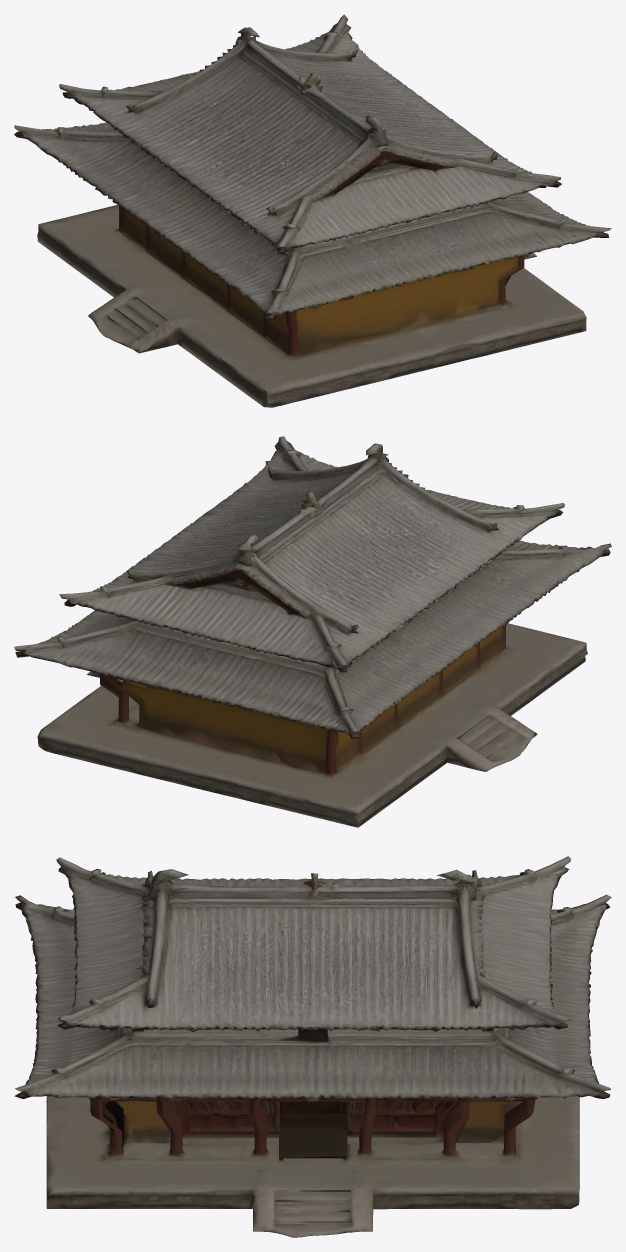
Rendered from building-foguangsi.glb.
3 renders of one model, top to bottom at view 1: azimuth 30°, elevation 25°; view 2: azimuth 150°, elevation 25°; view 3: azimuth 270°, elevation 25°, orthographic. The views are drawn at different scales.
Visible parts, largest first — view 1: node_d48c1c45-7a0e-4a4b-a355-abd4803bc004; view 2: node_d48c1c45-7a0e-4a4b-a355-abd4803bc004; view 3: node_d48c1c45-7a0e-4a4b-a355-abd4803bc004.
Boxes of the visible parts, box(x1,y1,x2,y2) form: node_d48c1c45-7a0e-4a4b-a355-abd4803bc004: box(14, 14, 611, 407); node_d48c1c45-7a0e-4a4b-a355-abd4803bc004: box(14, 436, 611, 827); node_d48c1c45-7a0e-4a4b-a355-abd4803bc004: box(14, 856, 611, 1237).
Size of the model in its own units: 1 by 0.4931 by 1.07.
Materials: 1 (1 with a texture image).
